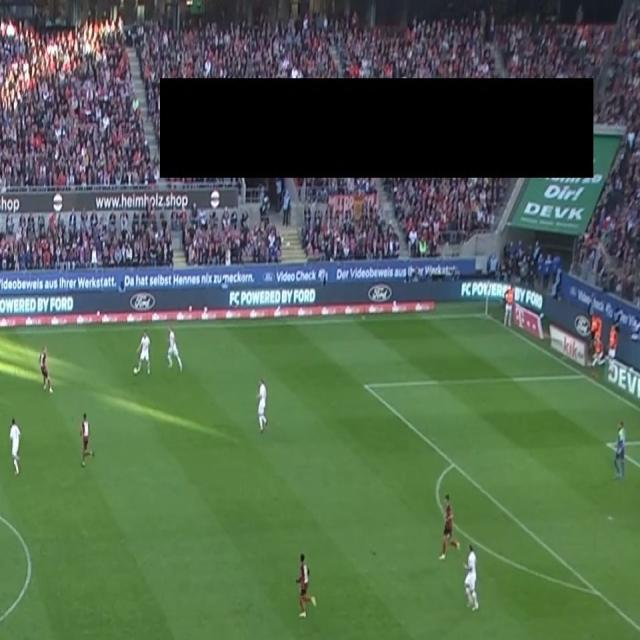ball: (134, 366, 138, 374)
